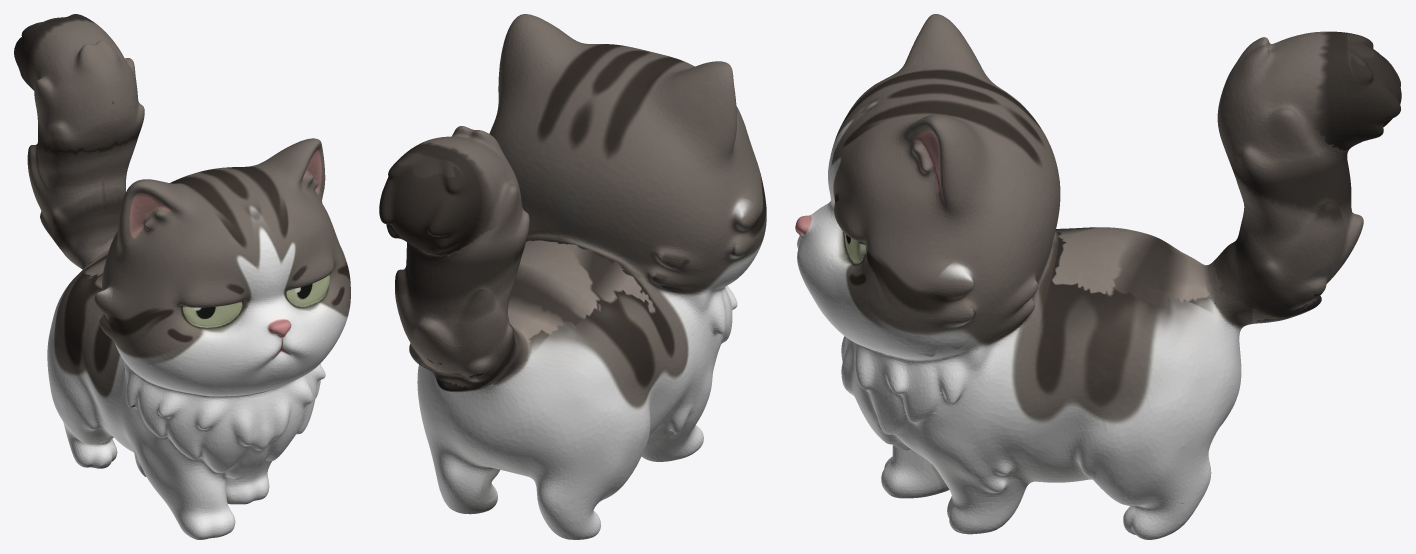
Rendered from felipe_piezas_superficie.glb.
The picture shows the model from 3 angles, left to right: view 1: azimuth 30°, elevation 25°; view 2: azimuth 150°, elevation 25°; view 3: azimuth 270°, elevation 25°; orthographic projection. The views are drawn at different scales.
Visible parts, largest first — view 1: cabeza, melena, cola_punta, pata_tras_der, cola_medio, pata_del_der, oreja_der, cola_base, cuerpo_grupa, cuerpo_pecho, oreja_izq, pata_del_izq (+1 smaller); view 2: cabeza, pata_tras_der, cola_punta, cuerpo_grupa, cola_medio, oreja_der, pata_tras_izq, cola_base, pata_del_der, cuerpo_pecho, oreja_izq, melena (+1 smaller); view 3: cabeza, pata_tras_izq, cola_punta, cuerpo_grupa, melena, cola_medio, cola_base, cuerpo_pecho, pata_del_izq, oreja_izq, oreja_der, pata_del_der (+1 smaller).
Part boxes in pixels (<box>): cabeza: <box>99,159,350,395</box>; melena: <box>124,363,325,488</box>; cola_punta: <box>14,14,144,144</box>; pata_tras_der: <box>47,261,117,468</box>; cola_medio: <box>27,122,143,204</box>; pata_del_der: <box>113,379,235,539</box>; oreja_der: <box>117,179,196,271</box>; cola_base: <box>37,187,125,269</box>; cuerpo_grupa: <box>78,251,133,452</box>; cuerpo_pecho: <box>94,331,133,452</box>; oreja_izq: <box>266,138,325,202</box>; pata_del_izq: <box>225,460,271,504</box>; cabeza: <box>489,37,766,289</box>; pata_tras_der: <box>482,310,661,539</box>; cola_punta: <box>379,126,529,259</box>; cuerpo_grupa: <box>462,238,674,467</box>; cola_medio: <box>395,235,527,360</box>; oreja_der: <box>643,61,746,157</box>; pata_tras_izq: <box>417,365,499,514</box>; cola_base: <box>409,313,572,392</box>; pata_del_der: <box>641,313,728,461</box>; cuerpo_pecho: <box>643,271,728,430</box>; oreja_izq: <box>498,14,570,94</box>; melena: <box>692,278,737,348</box>; cabeza: <box>795,67,1119,359</box>; pata_tras_izq: <box>1063,289,1240,539</box>; cola_punta: <box>1217,31,1401,173</box>; cuerpo_grupa: <box>1018,227,1249,482</box>; melena: <box>838,330,1030,450</box>; cola_medio: <box>1225,150,1363,271</box>; cola_base: <box>1190,221,1344,348</box>; cuerpo_pecho: <box>939,298,1047,534</box>; pata_del_izq: <box>898,415,1027,532</box>; oreja_izq: <box>903,114,982,221</box>; oreja_der: <box>899,14,993,83</box>; pata_del_der: <box>881,445,949,498</box>.
Bounding box in the file's own units: 1.07 × 1.62 × 1.9.
Materials: 1 (1 with a texture image).
